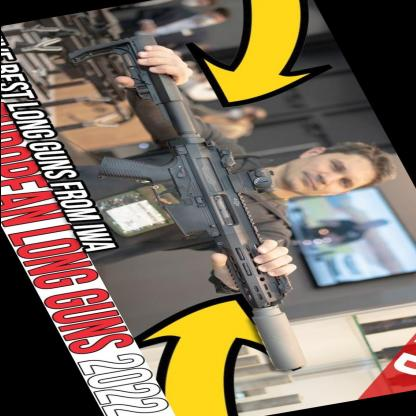rifle: (24, 14, 364, 387)
